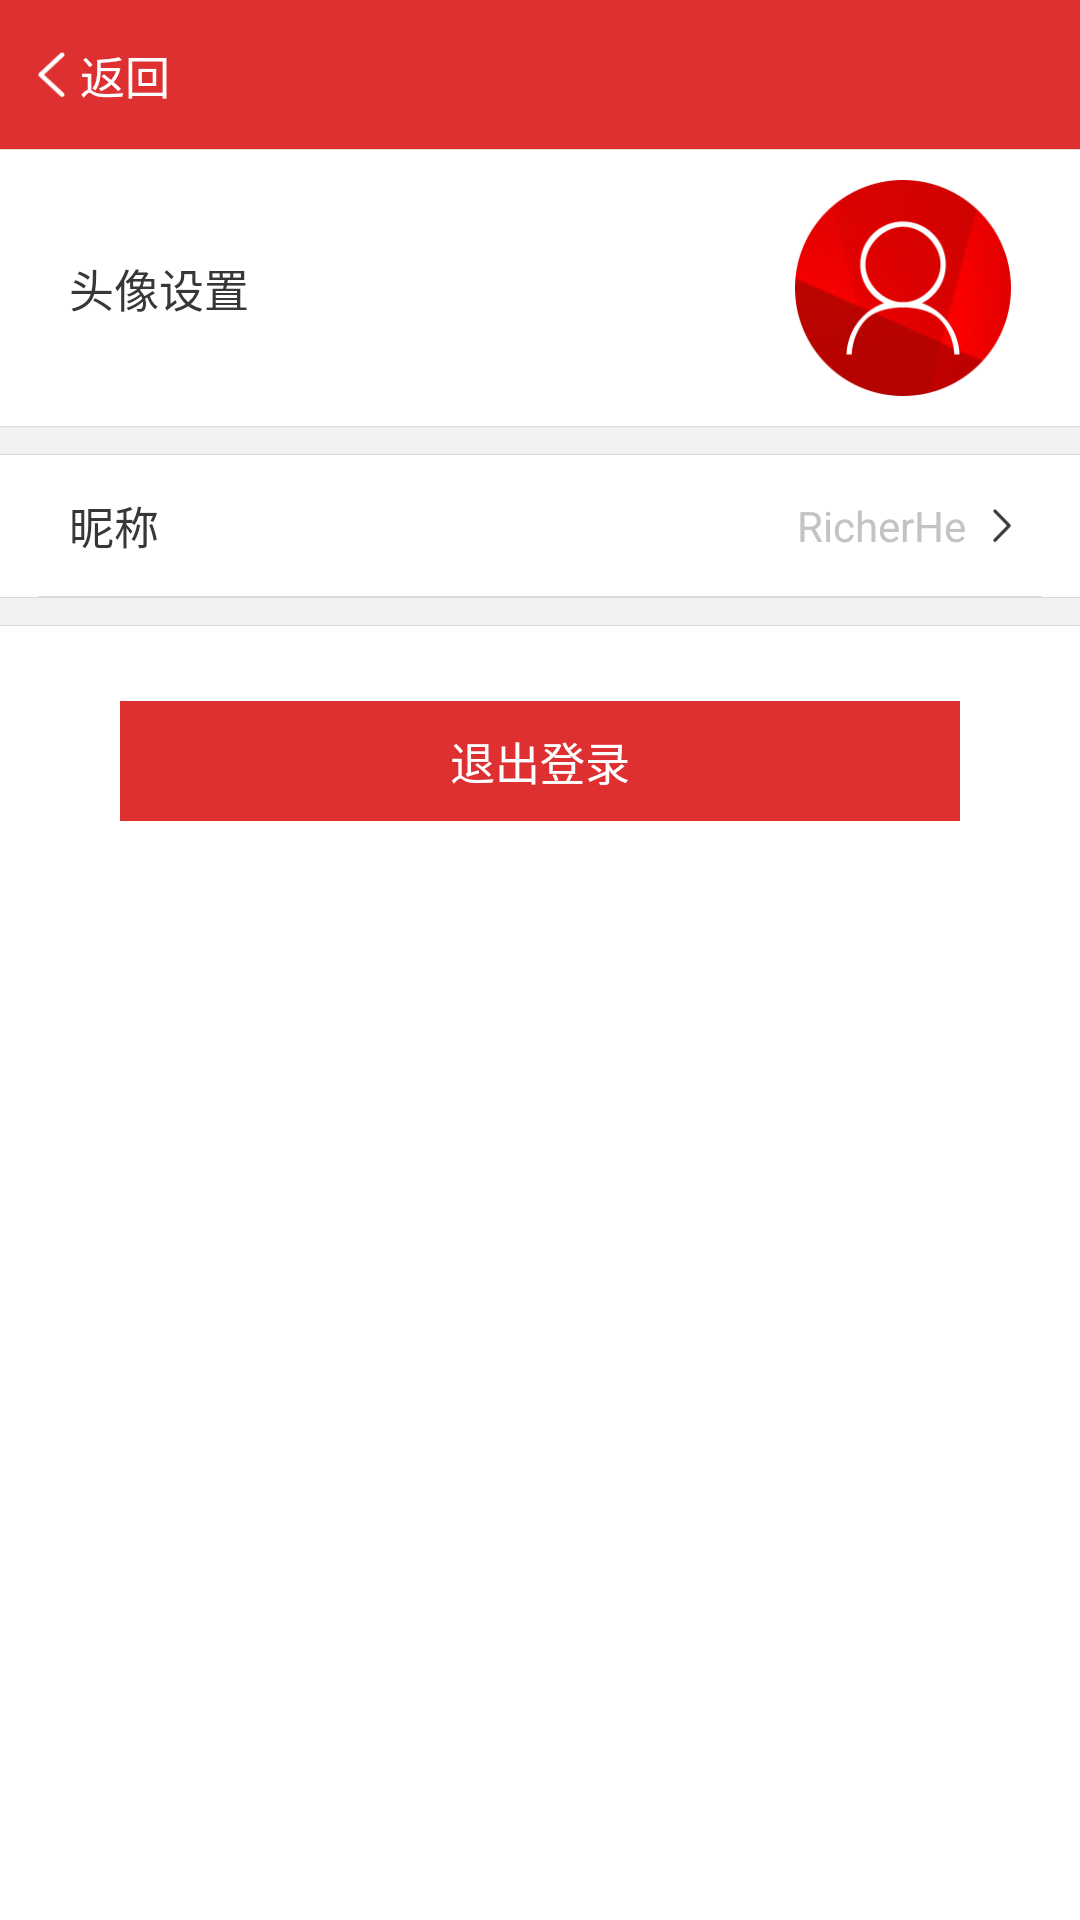

Named icons in this screenshot (1080x1920) and their centers, point (x, y):
self center head: point (903, 288)
